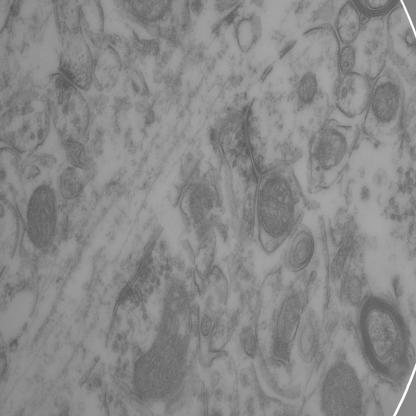mitochondria: (132, 280, 193, 403), (257, 173, 297, 242), (25, 181, 60, 252), (322, 360, 365, 416), (315, 125, 350, 173), (372, 77, 400, 127), (294, 70, 320, 107)
